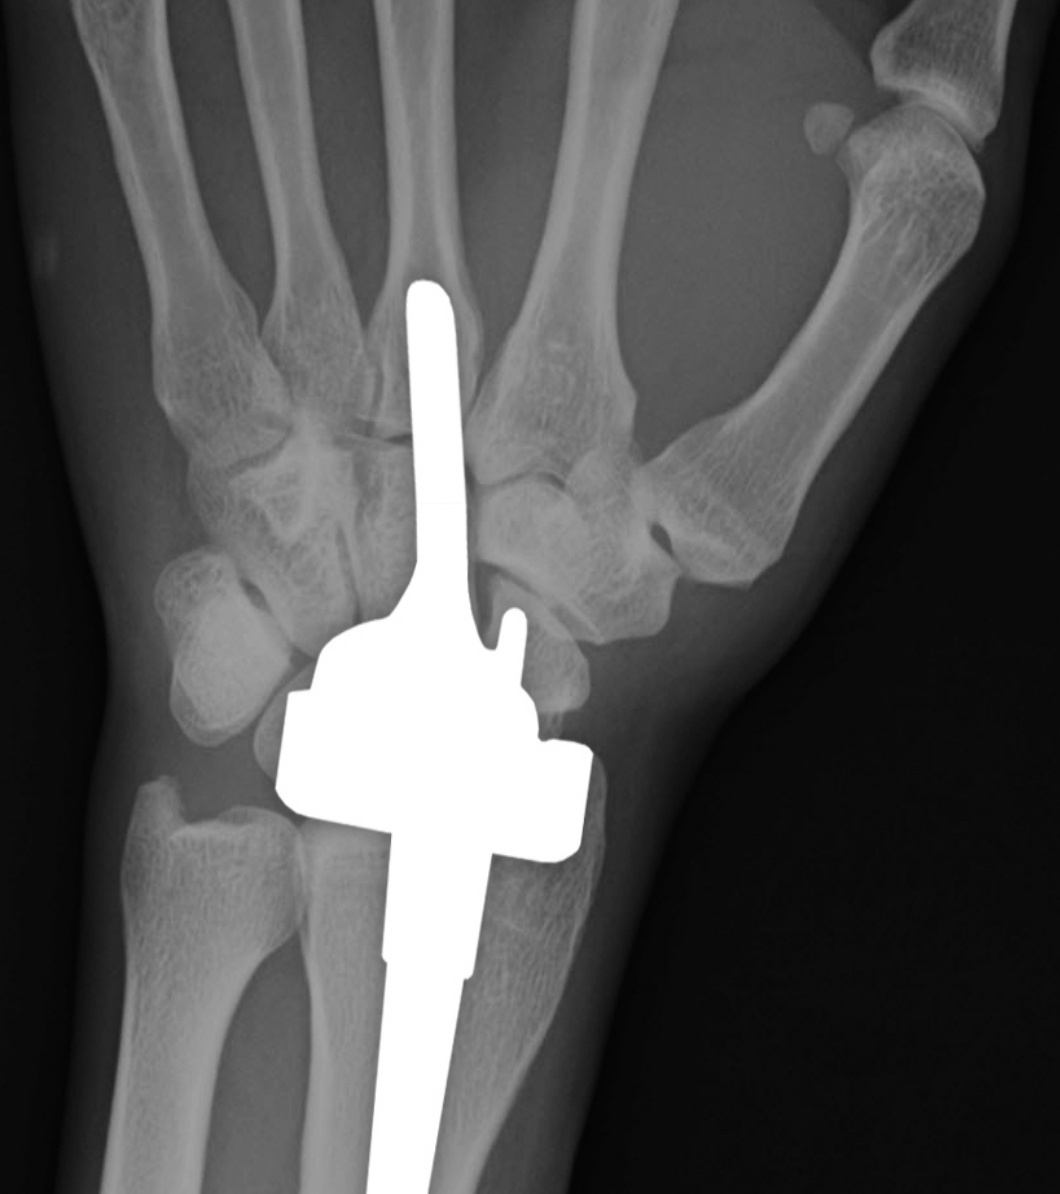Wrist-Biax-DePuuy: (255, 254, 597, 1194)
